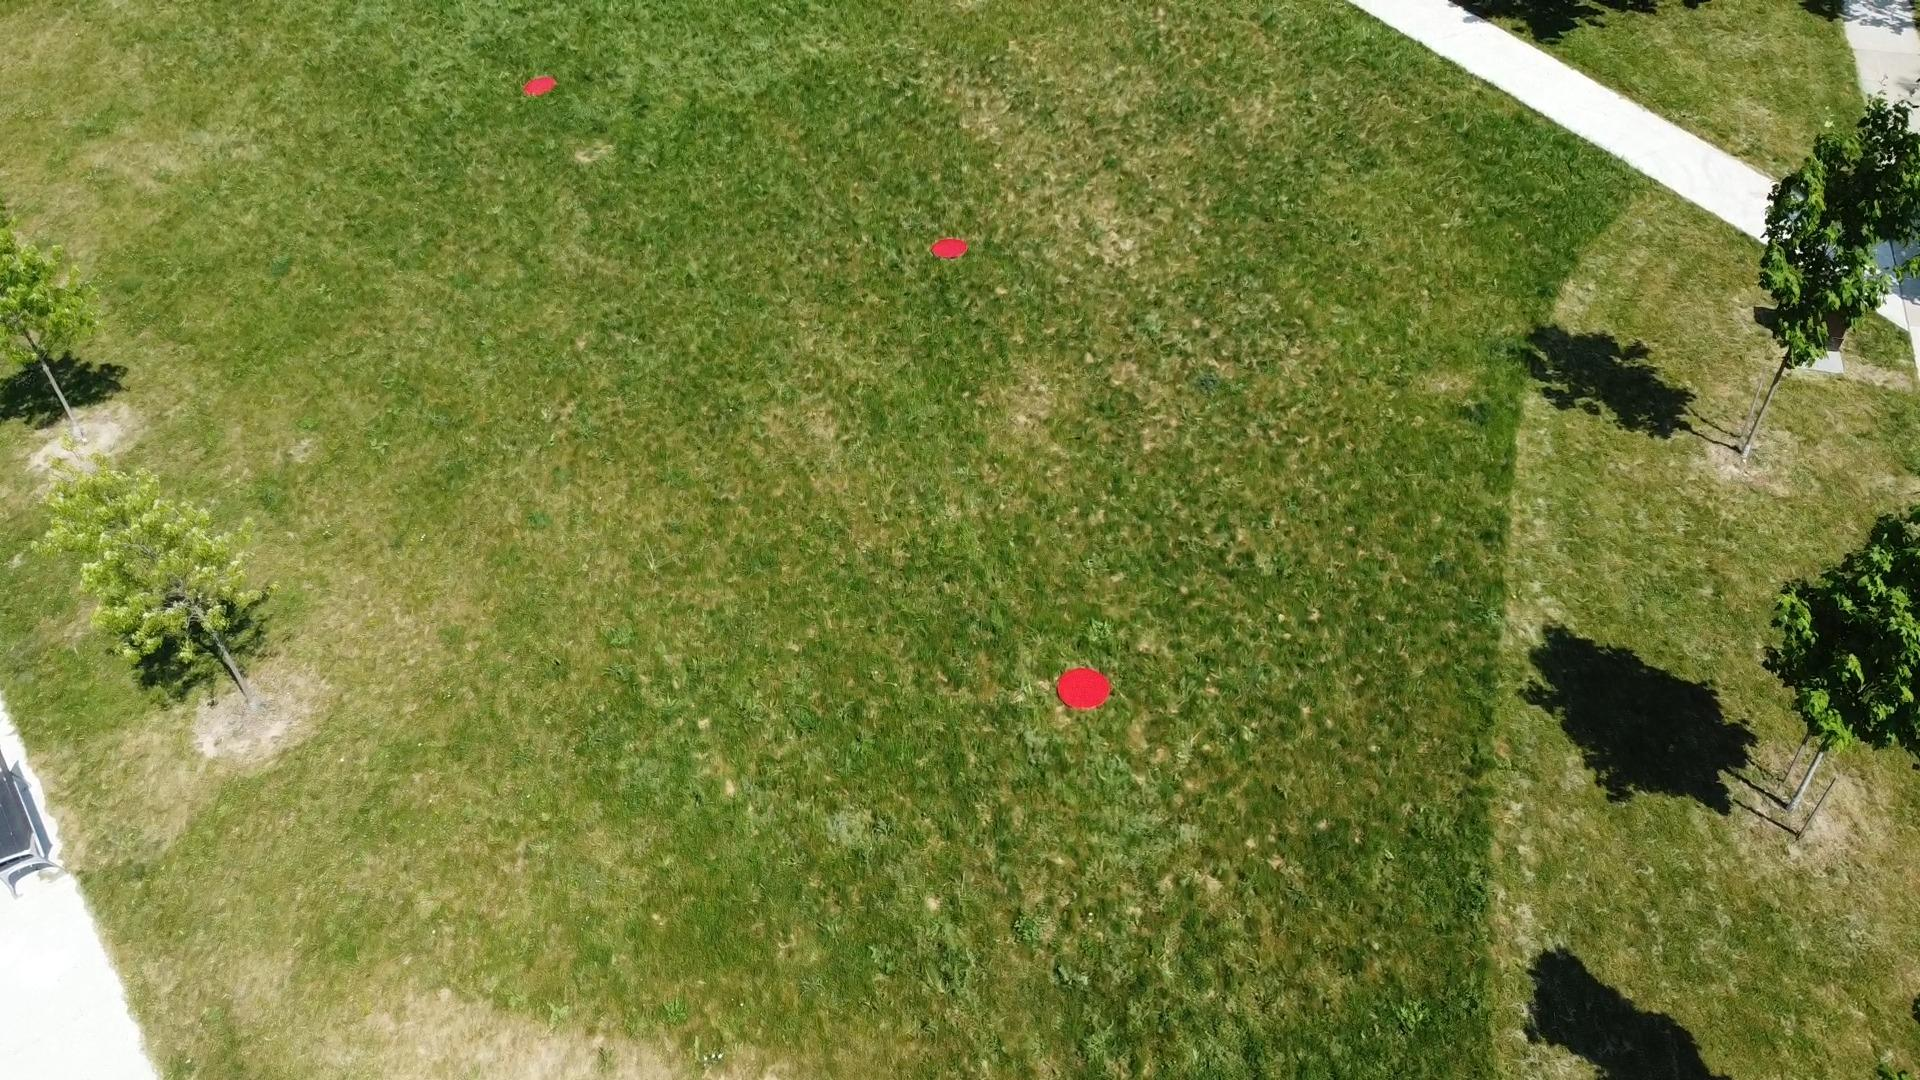Red: (1054, 667, 1112, 709), (930, 237, 969, 260), (522, 75, 558, 96)
